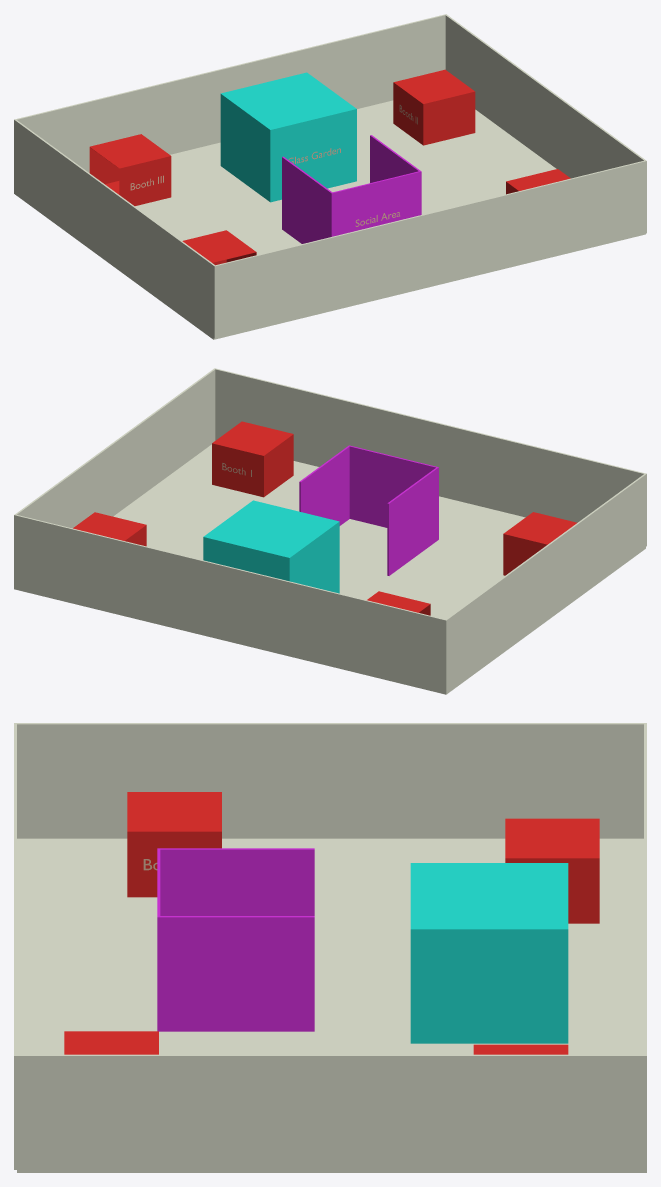
File: demo.glb
The picture shows the model from 3 angles, top to bottom: view 1: azimuth 30°, elevation 25°; view 2: azimuth 150°, elevation 25°; view 3: azimuth 270°, elevation 25°; orthographic projection. The views are drawn at different scales.
Parts seen in each view (by area): view 1: Wall_D, Wall_U, Floor, Wall_L, Glass_Garden, Wall_R, Social_Area, Booth_2, Booth_3, Booth_4, Booth_1; view 2: Wall_U, Wall_D, Floor, Wall_L, Wall_R, Social_Area, Glass_Garden, Booth_1, Booth_4, Booth_2, Booth_3; view 3: Wall_R, Floor, Wall_L, Social_Area, Glass_Garden, Booth_4, Booth_3, Booth_1, Wall_D, Wall_U, Booth_2.
Boxes of the visible parts, x1,y1,x2,y2 form: Wall_D: [213, 160, 646, 338]; Wall_U: [16, 14, 446, 172]; Floor: [14, 100, 645, 339]; Wall_L: [14, 119, 214, 337]; Glass_Garden: [220, 72, 356, 202]; Wall_R: [445, 14, 645, 178]; Social_Area: [282, 135, 421, 243]; Booth_2: [393, 69, 475, 145]; Booth_3: [89, 134, 171, 205]; Booth_4: [182, 230, 256, 265]; Booth_1: [506, 169, 570, 194]; Wall_U: [14, 514, 445, 692]; Wall_D: [214, 368, 646, 546]; Floor: [14, 444, 645, 694]; Wall_L: [444, 474, 645, 692]; Wall_R: [14, 369, 215, 587]; Social_Area: [299, 445, 438, 575]; Glass_Garden: [203, 500, 339, 593]; Booth_1: [212, 421, 293, 497]; Booth_4: [503, 512, 577, 575]; Booth_2: [73, 512, 146, 546]; Booth_3: [367, 591, 430, 615]; Wall_R: [17, 1054, 646, 1169]; Floor: [17, 838, 646, 1172]; Wall_L: [17, 723, 646, 838]; Social_Area: [157, 848, 314, 1031]; Glass_Garden: [410, 863, 568, 1043]; Booth_4: [127, 792, 221, 897]; Booth_3: [505, 818, 599, 923]; Booth_1: [64, 1031, 158, 1054]; Wall_D: [14, 723, 16, 1169]; Wall_U: [644, 724, 646, 1169]; Booth_2: [473, 1044, 568, 1054].
Size of the model in its own units: 25 by 4.1 by 20.1.
